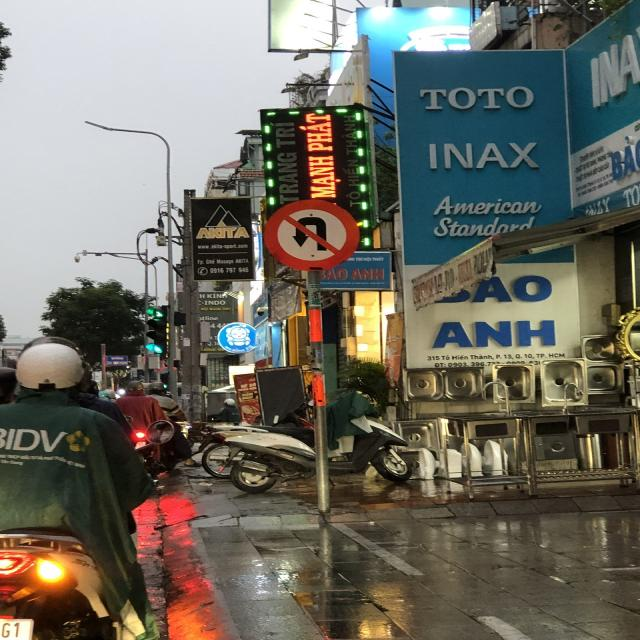Bien bao cam quay dau xe: (258, 197, 364, 272)
